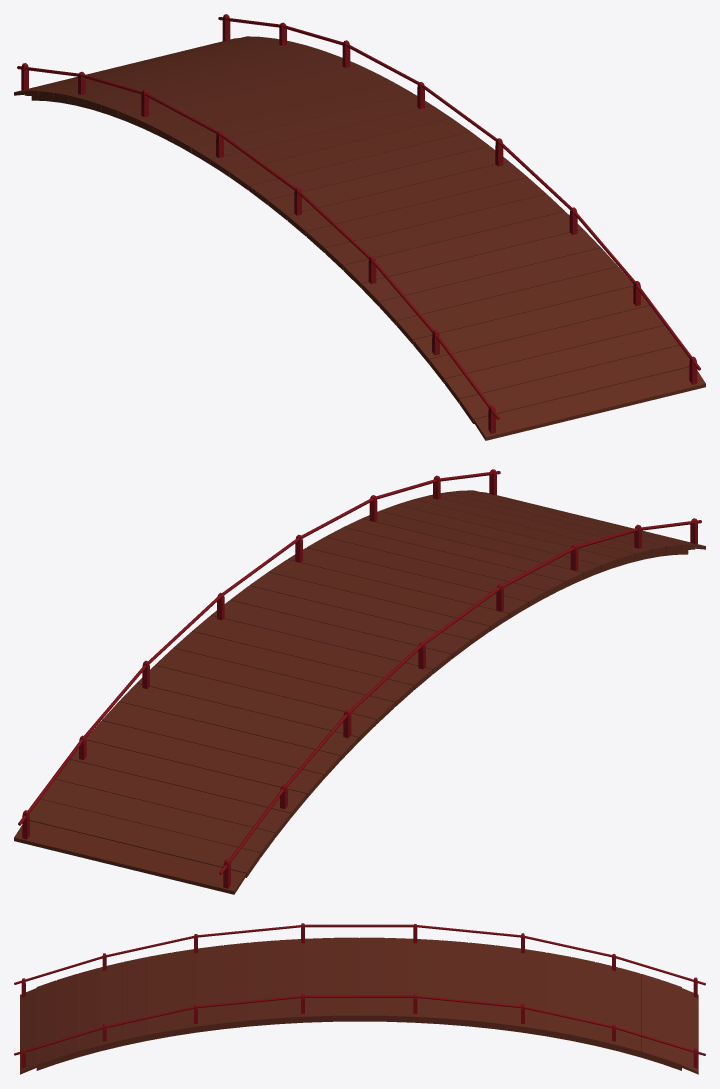
File: bridge.glb
3 views of the same model, one above another, from view 1: azimuth 30°, elevation 25°; view 2: azimuth 150°, elevation 25°; view 3: azimuth 270°, elevation 25° (orthographic). The views are drawn at different scales.
Visible parts, largest first — view 1: Plane.009; view 2: Plane.009; view 3: Plane.009.
Part boxes in pixels (<box>): Plane.009: <box>14,14,705,440</box>; Plane.009: <box>14,469,705,894</box>; Plane.009: <box>14,923,705,1074</box>.
Bounding box in the file's own units: 2 × 0.9198 × 7.5.
